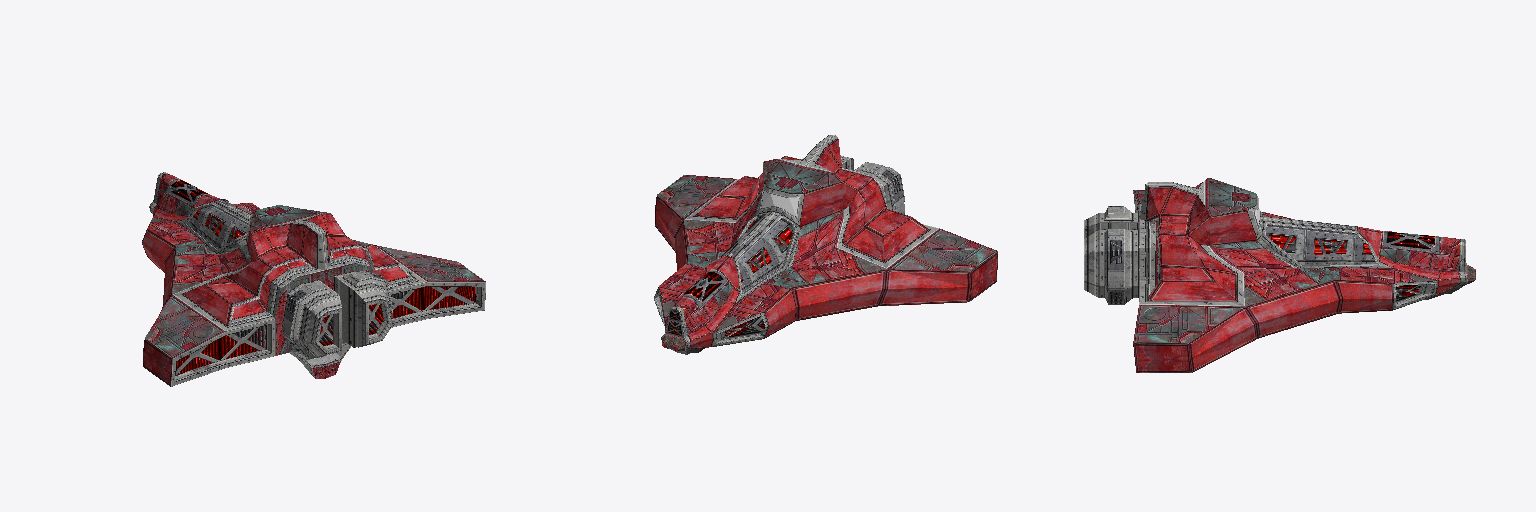
3 renders of one model, left to right at view 1: azimuth 30°, elevation 25°; view 2: azimuth 150°, elevation 25°; view 3: azimuth 270°, elevation 25°, orthographic.
Parts seen in each view (by area): view 1: ships; view 2: ships; view 3: ships.
Boxes of the visible parts, <box> form: ships: <box>142,172,485,386</box>; ships: <box>654,135,997,354</box>; ships: <box>1084,178,1475,372</box>.
Bounding box in the file's own units: 19.87 × 8.62 × 21.38.
5 materials, 4 textured.